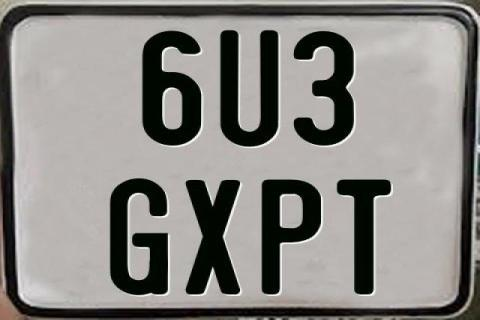0: (140, 30, 201, 146), (291, 31, 352, 147)
G: (107, 177, 171, 295)
P: (262, 179, 321, 295)
T: (334, 178, 389, 294)
U: (217, 30, 278, 150)
X: (183, 178, 240, 296)
